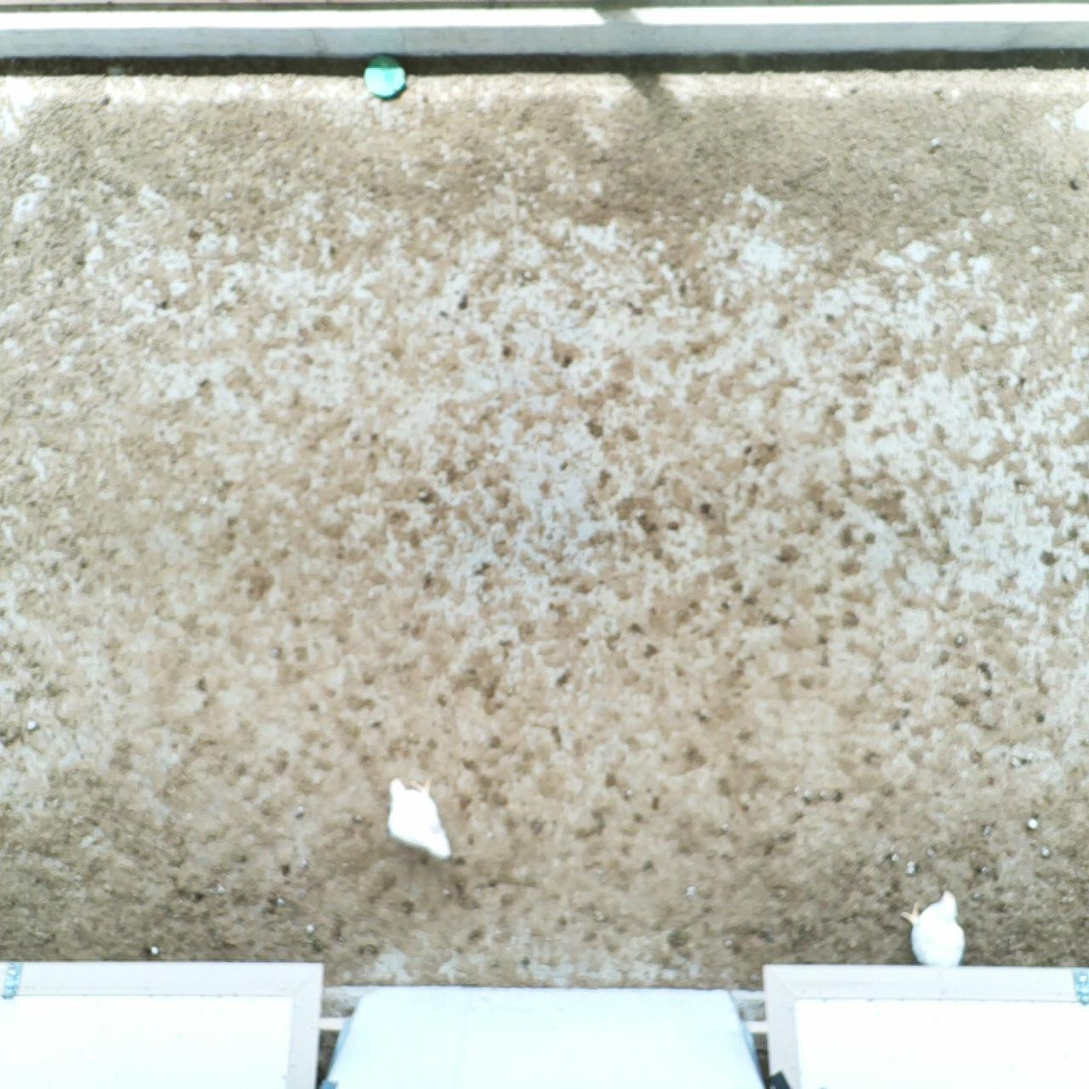chicken: (381, 771, 458, 865), (895, 884, 969, 970)
